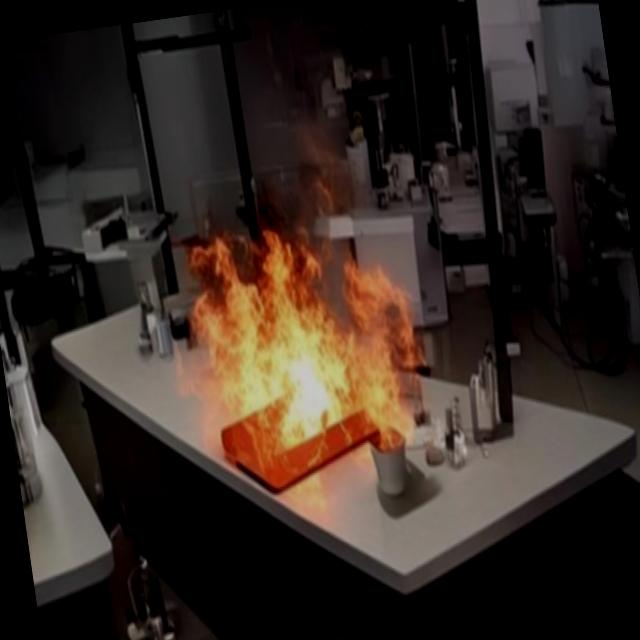fire: (170, 150, 453, 540)
